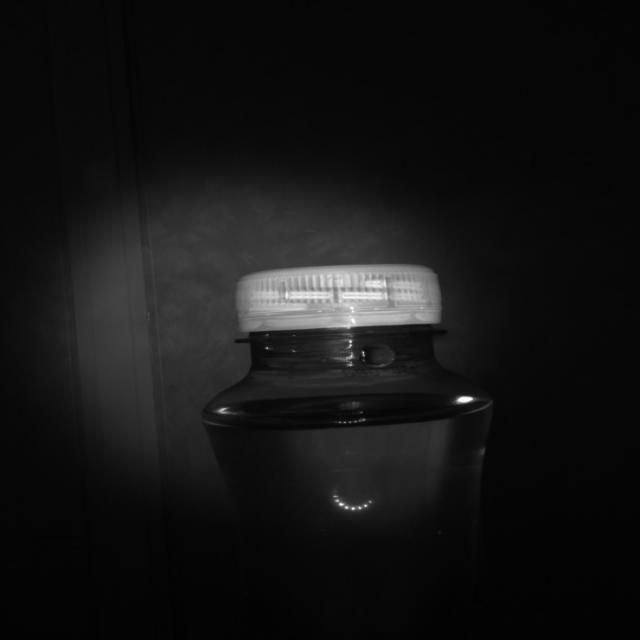Good: (236, 264, 446, 334)
